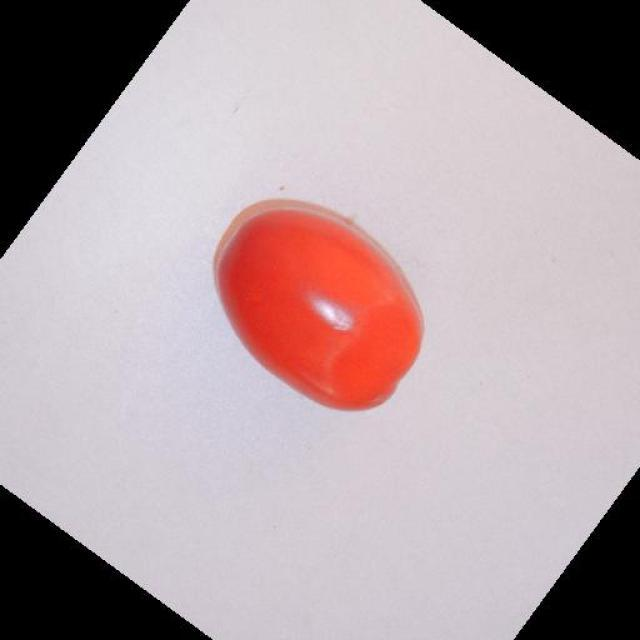Fresh Tomato: (204, 188, 438, 450)
